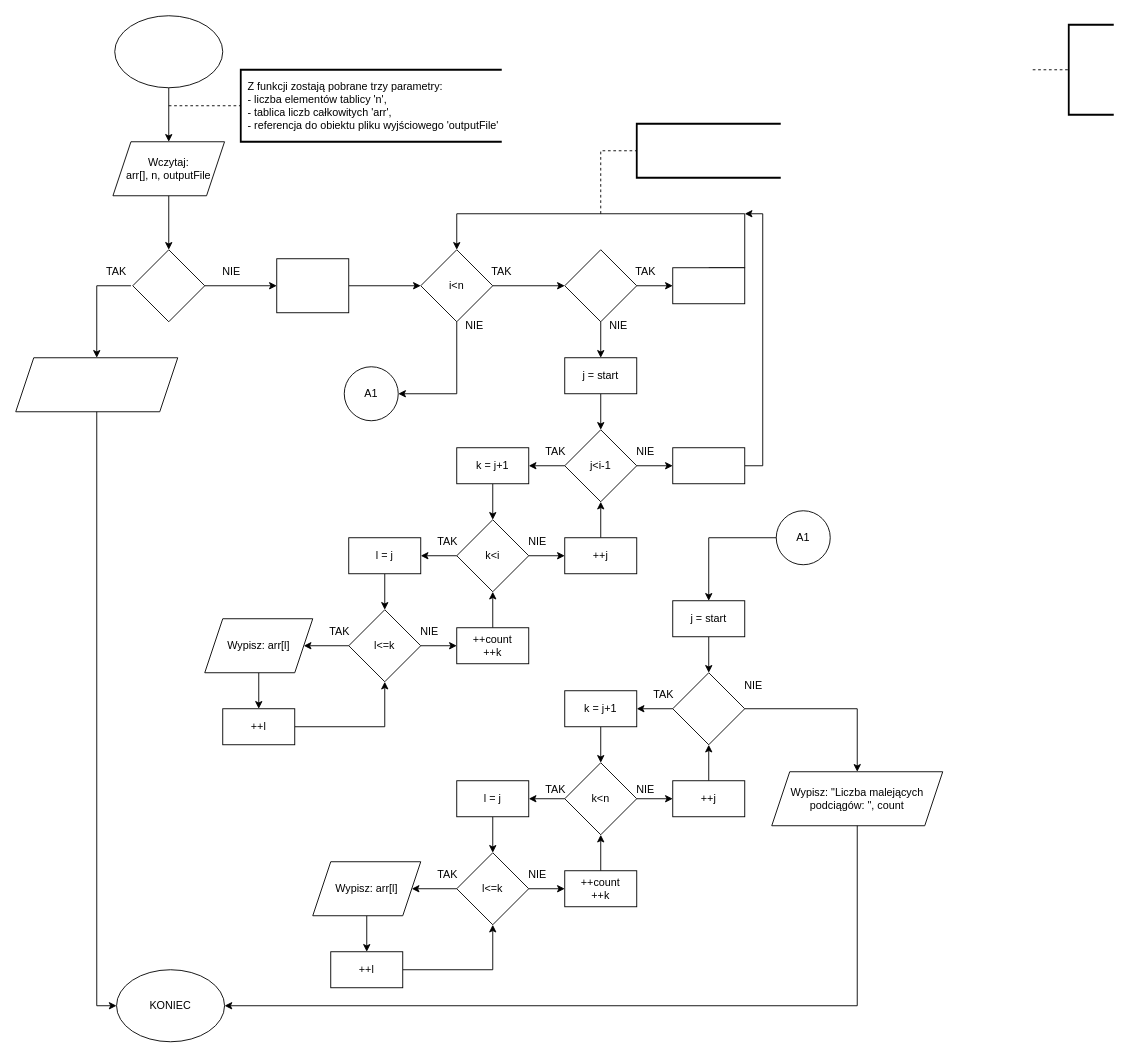
Image size: 1130x1058. Some labels were removed from this diagram. Each missing label, with the centre of its shape:
arr[i]<arr[i-1]: the point at 600,285
count = 0 start = 0 i = 1: the point at 312,285
j<n-1: the point at 708,708
Jeśli element jest mniejszy od poprzedniego to kontynuujemy pętlę: the point at 708,150
kontynuuj ++i: the point at 708,285
n<2: the point at 168,285
START: the point at 168,51
start = i ++i: the point at 708,465
Wypisz: "Brak mozliwych malejacych podciagow.": the point at 96,384
